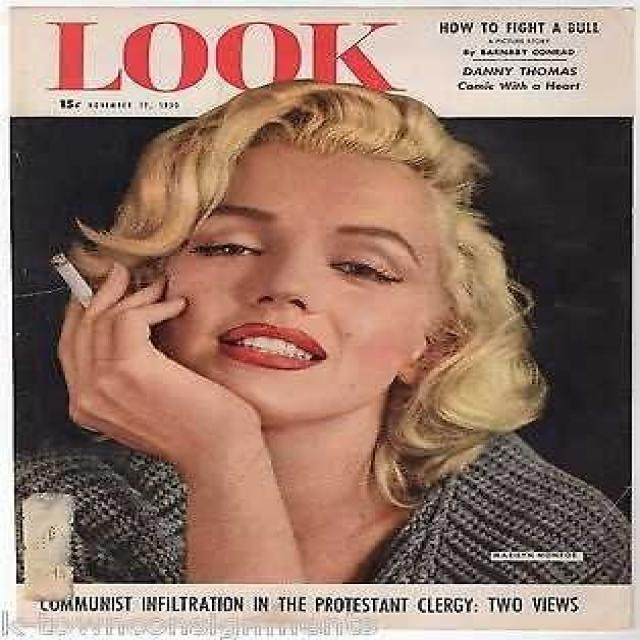Smooking: (43, 248, 110, 306)
